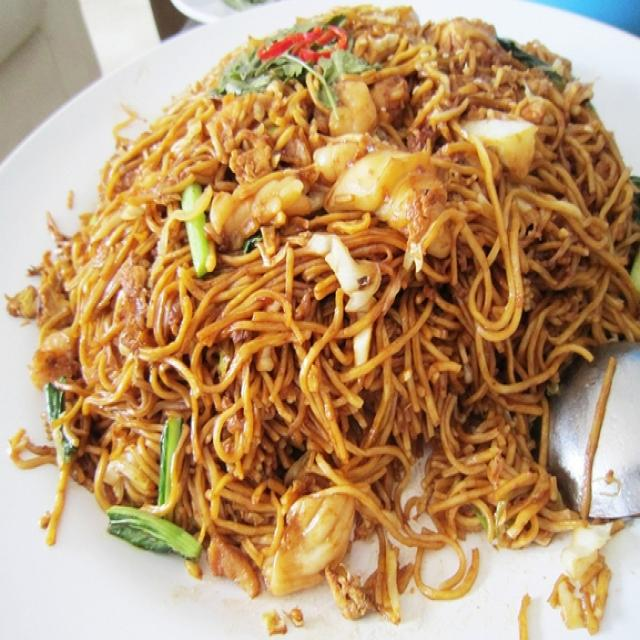面条主食: (11, 7, 621, 618)
